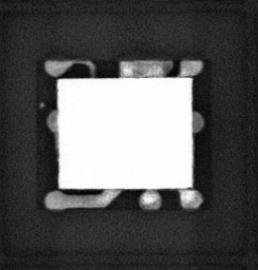DIE_INK: (37, 100, 46, 109)
